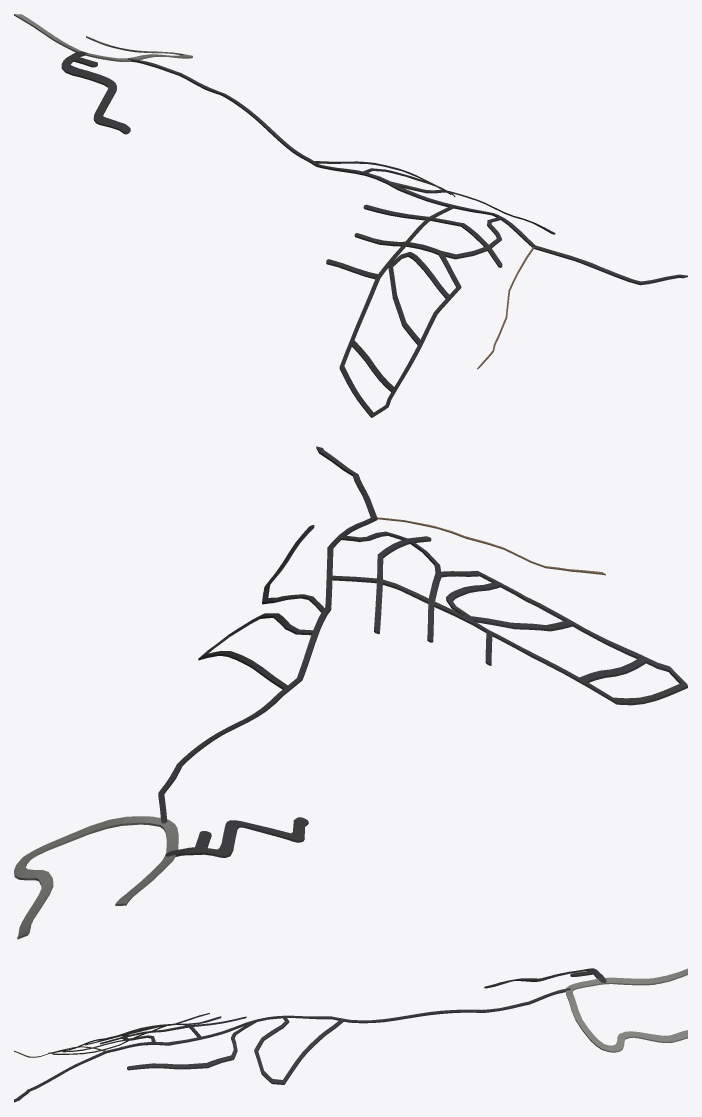
3 renders of one model, top to bottom at view 1: azimuth 30°, elevation 25°; view 2: azimuth 150°, elevation 25°; view 3: azimuth 270°, elevation 25°, orthographic. The views are drawn at different scales.
Size of the model in its own units: 243 by 92.71 by 583.
